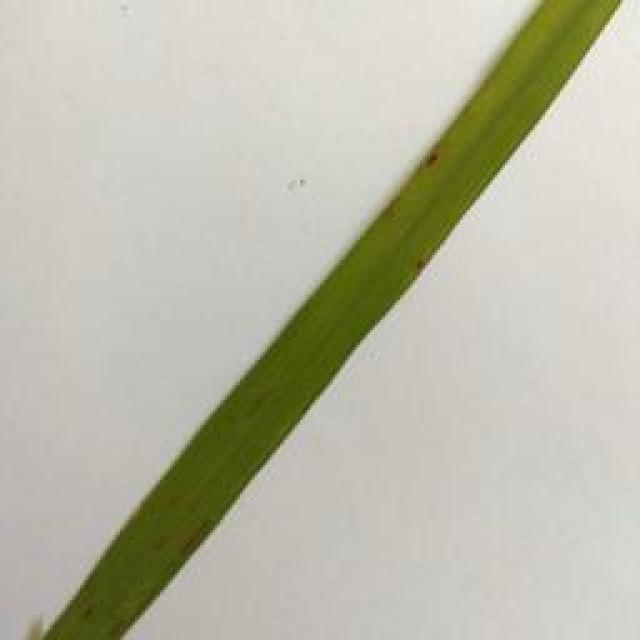Brown_Spot: (171, 518, 229, 564), (407, 133, 452, 180), (406, 256, 432, 282)
